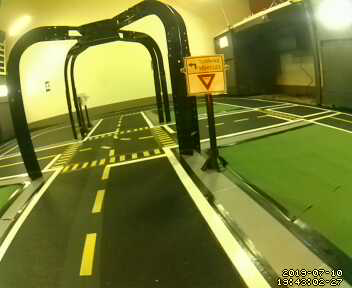Turn Yield: (185, 55, 226, 96)
